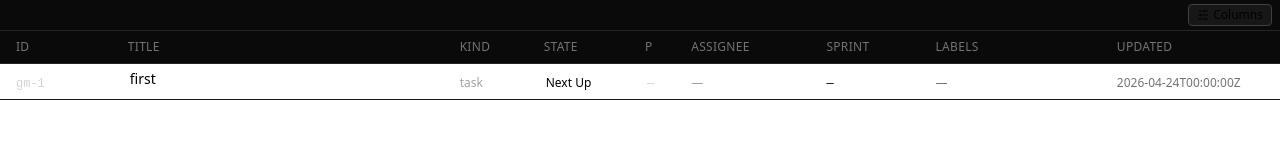
Scenario: WorkItemGrid inline edit (gm-5v8v.6.1) › Esc cancels the title edit without firing PATCH
Click the button with test id "grid-cell-gm-1-title". click: (143, 79)
box: [128,69,158,89]
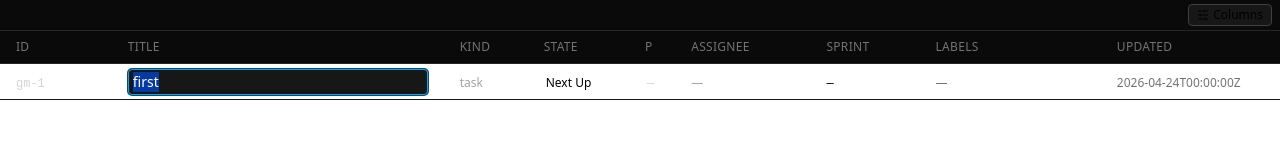
Press Escape in the field with test id "grid-cell-editor-title", box [128,68,428,94]
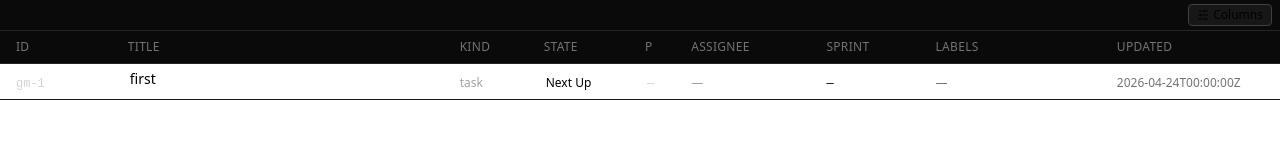
Expected: the field with test id "grid-cell-editor-title" is gone
